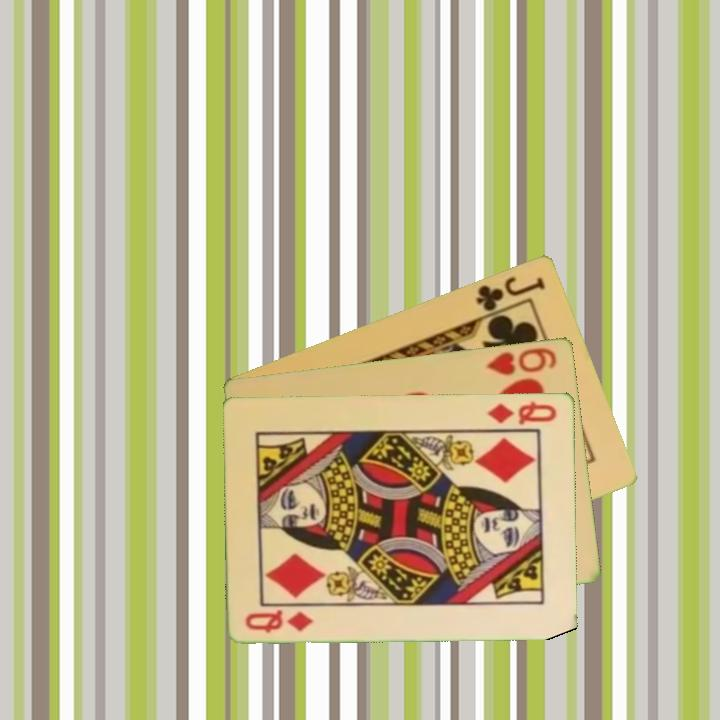6h: (483, 343, 560, 378)
Jc: (472, 272, 549, 314)
Qd: (484, 397, 560, 427), (242, 606, 316, 636)
